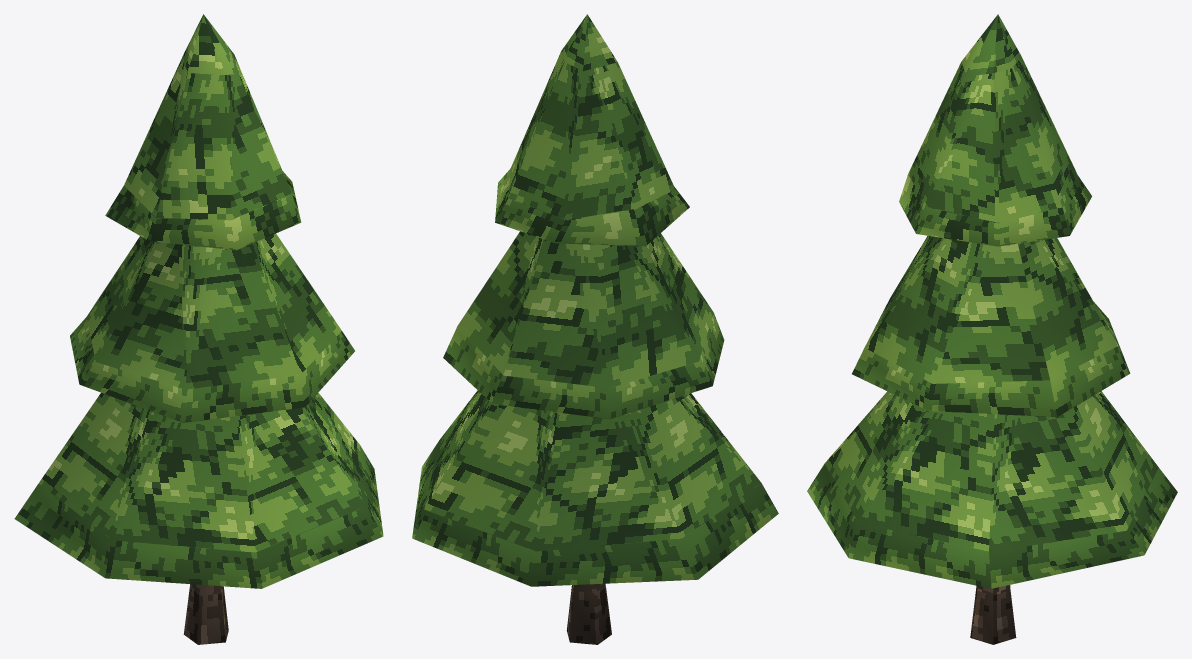
File: mnat.pine__short.glb
3 views of the same model, side by side, from view 1: azimuth 30°, elevation 25°; view 2: azimuth 150°, elevation 25°; view 3: azimuth 270°, elevation 25° (orthographic).
Visible parts, largest first — view 1: kit_tiers, kit_trunk; view 2: kit_tiers, kit_trunk; view 3: kit_tiers, kit_trunk.
Part boxes in pixels (bbox=[...]): kit_tiers: bbox=[14, 14, 383, 588]; kit_trunk: bbox=[183, 584, 228, 644]; kit_tiers: bbox=[412, 14, 778, 586]; kit_trunk: bbox=[566, 583, 611, 644]; kit_tiers: bbox=[807, 14, 1177, 588]; kit_trunk: bbox=[970, 585, 1016, 644].
Size of the model in its own units: 2.7 by 5.04 by 2.73.
2 materials, 2 textured.
